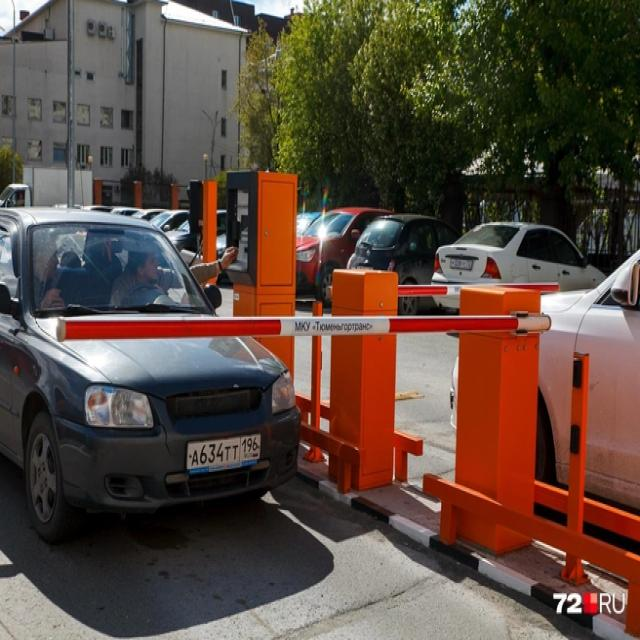car: (0, 203, 301, 542), (449, 247, 639, 514), (430, 221, 607, 314), (346, 212, 462, 315), (296, 206, 393, 305)
